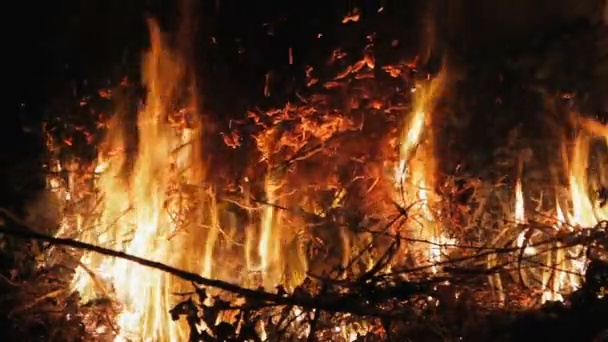fire: (41, 89, 218, 342), (394, 92, 453, 269), (554, 137, 608, 229), (242, 197, 292, 289), (540, 242, 588, 302), (514, 178, 535, 255)
